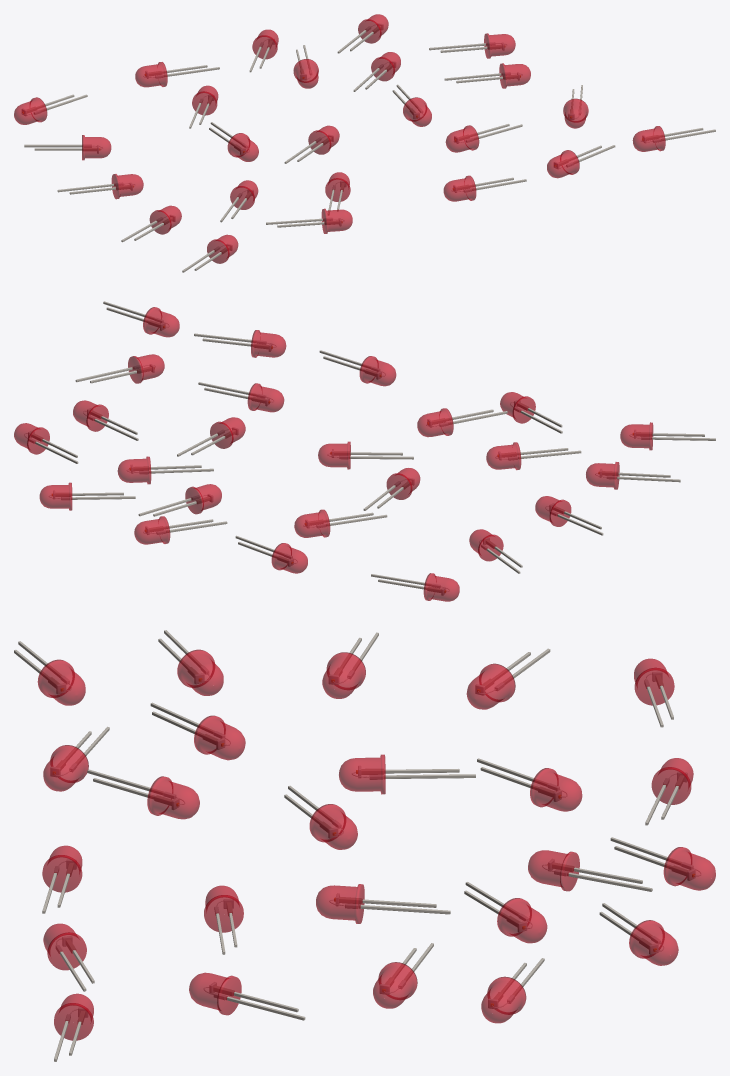
The model's file is components-20.glb.
3 renders of one model, top to bottom at view 1: azimuth 30°, elevation 25°; view 2: azimuth 150°, elevation 25°; view 3: azimuth 270°, elevation 25°, orthographic. The views are drawn at different scales.
Parts seen in each view (by area): view 1: lens, pins, die; view 2: lens, pins, die; view 3: lens, pins, die.
Part boxes in pixels (left/top/right/bottom): lens: left=14, top=14, right=665, bottom=263; pins: left=24, top=30, right=715, bottom=272; die: left=22, top=23, right=661, bottom=253; lens: left=14, top=307, right=653, bottom=601; pins: left=35, top=301, right=715, bottom=589; die: left=24, top=318, right=651, bottom=595; lens: left=37, top=649, right=715, bottom=1040; pins: left=14, top=630, right=681, bottom=1061; die: left=48, top=666, right=700, bottom=1024.
Bounding box in the file's own units: 4.41 × 0.1739 × 3.05.
